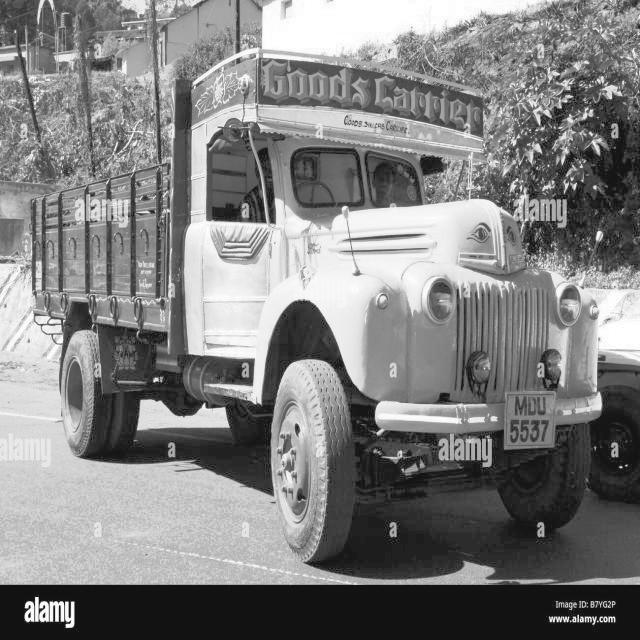HCV: (19, 25, 626, 573)
